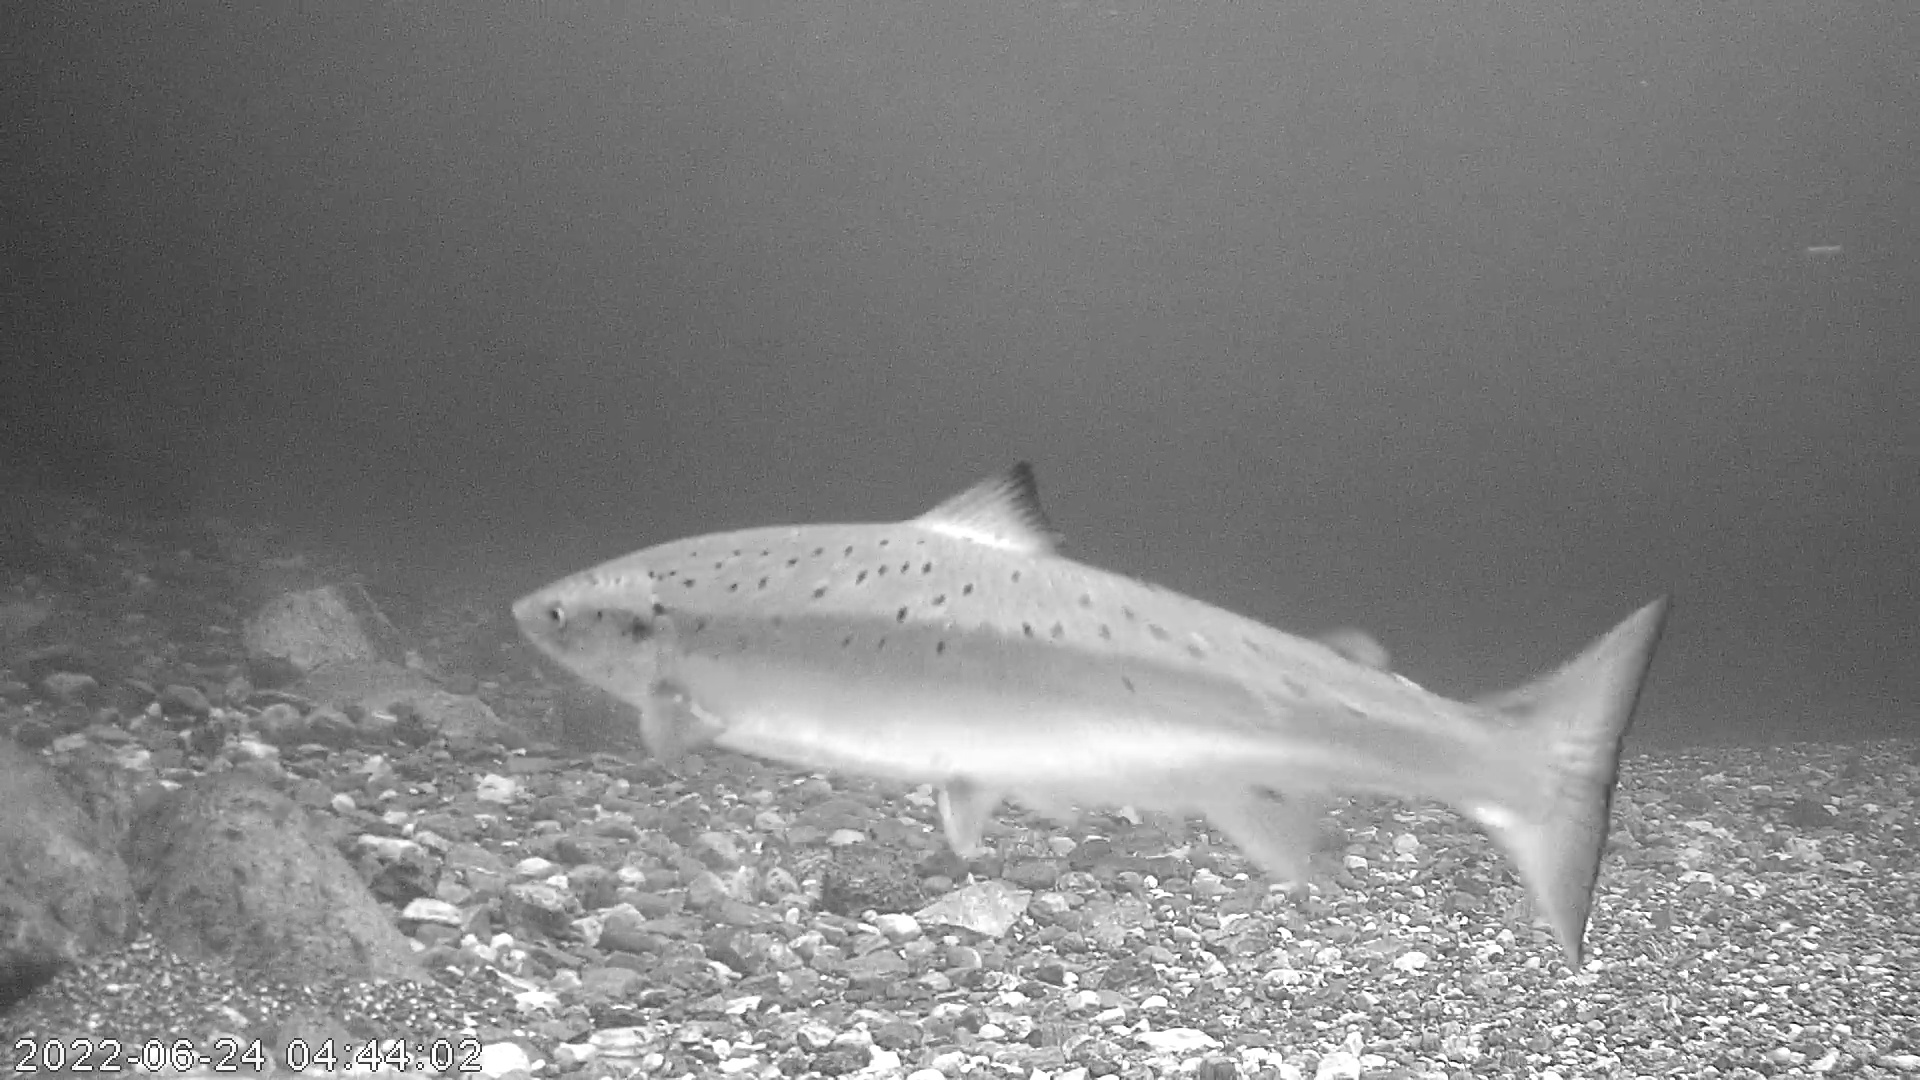salmon: (508, 454, 1671, 977)
